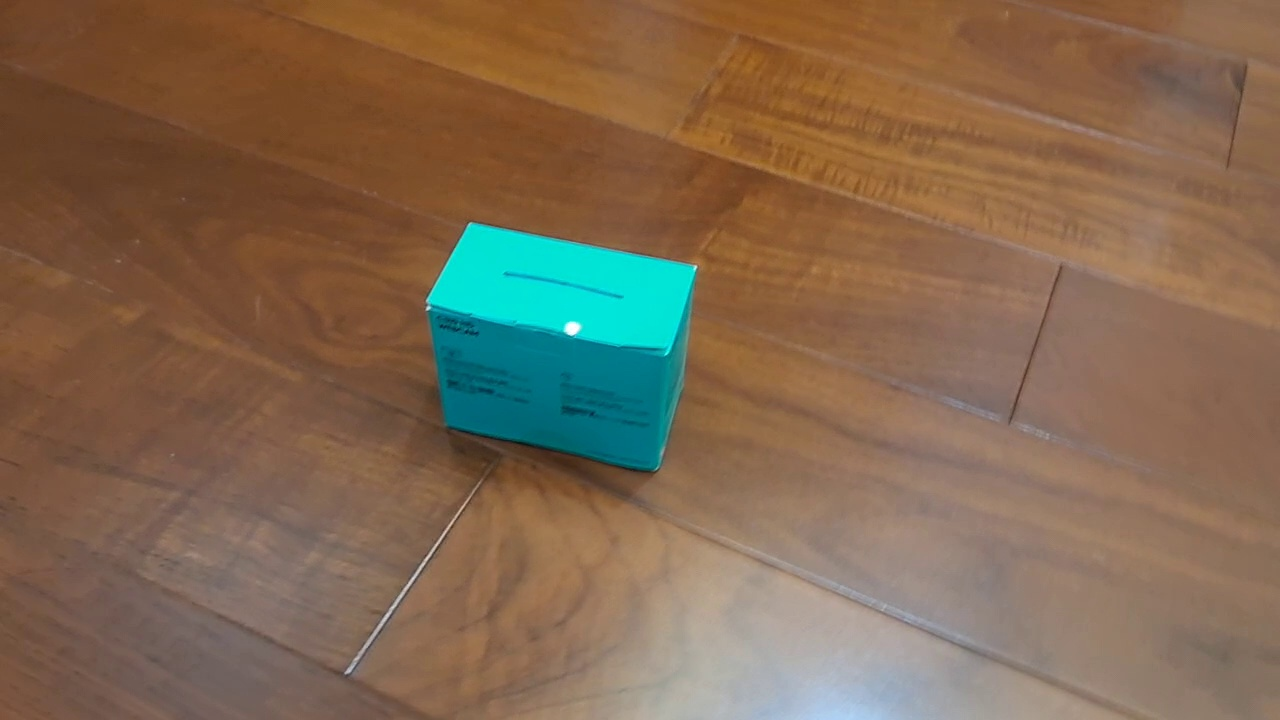webcam: (421, 217, 698, 473)
